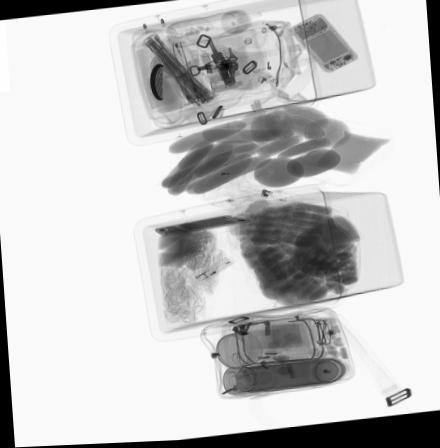Lighter: (192, 257, 233, 285)
